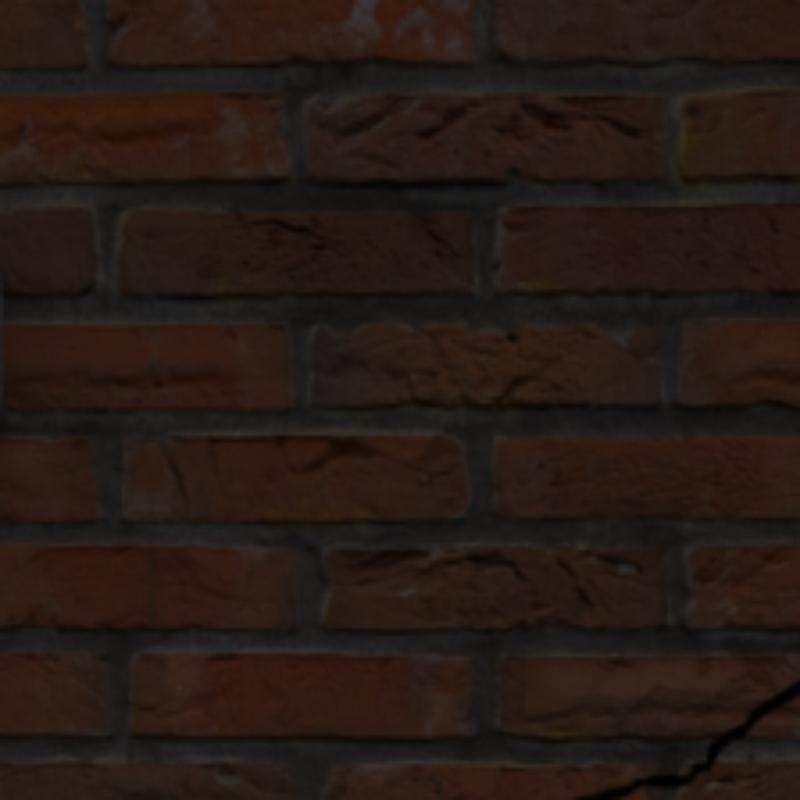pothole: (582, 682, 796, 796)
